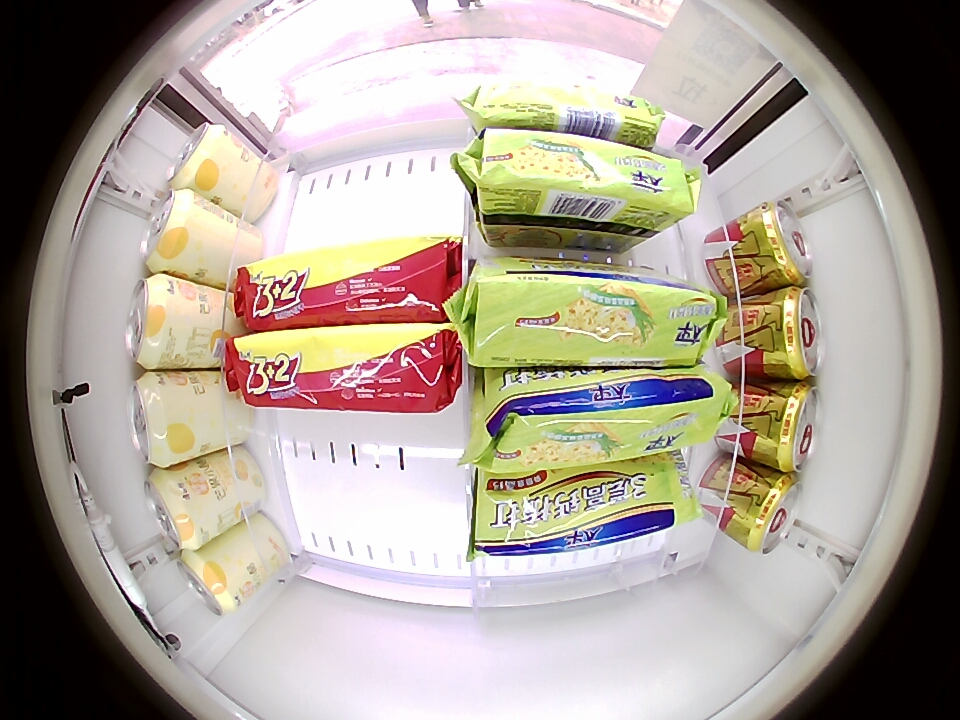3jia2: (232, 324, 458, 412), (242, 237, 453, 328)
dongpeng: (767, 286, 824, 380), (739, 471, 802, 554), (764, 381, 822, 471), (753, 200, 813, 286)
mangguoxiaolao: (129, 372, 183, 468), (144, 469, 204, 550), (126, 274, 177, 369), (140, 189, 197, 273), (166, 121, 228, 190), (178, 550, 239, 616)
taipingshuda: (471, 262, 719, 368), (483, 368, 725, 470), (475, 130, 695, 232), (474, 457, 684, 554), (473, 79, 659, 139)
